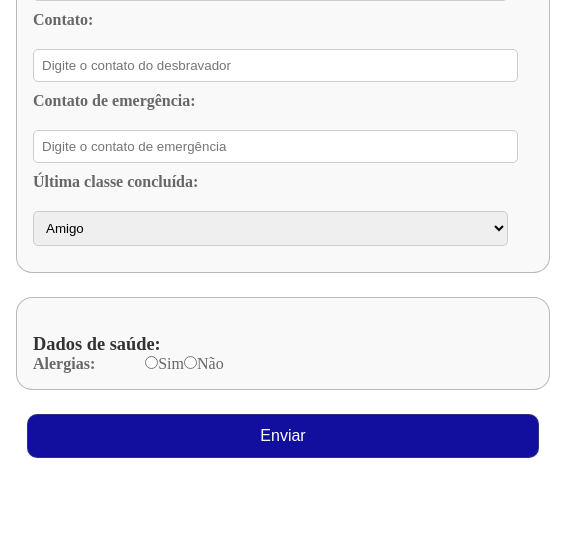
Scenario: Testes do Formulário de Envio › Deve mostrar o campo de alergias se "Sim" for selecionado
The image size is (567, 556).
(page scrolled)
Click the radio button labelled "Sim": x=152, y=362 [145, 356, 158, 369]
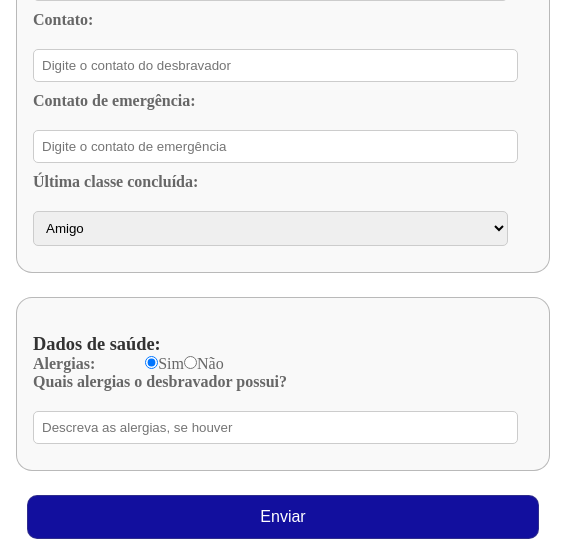
Now the field with placeholder "Descreva as alergias, se houver" is shown, box [33, 411, 518, 444]
